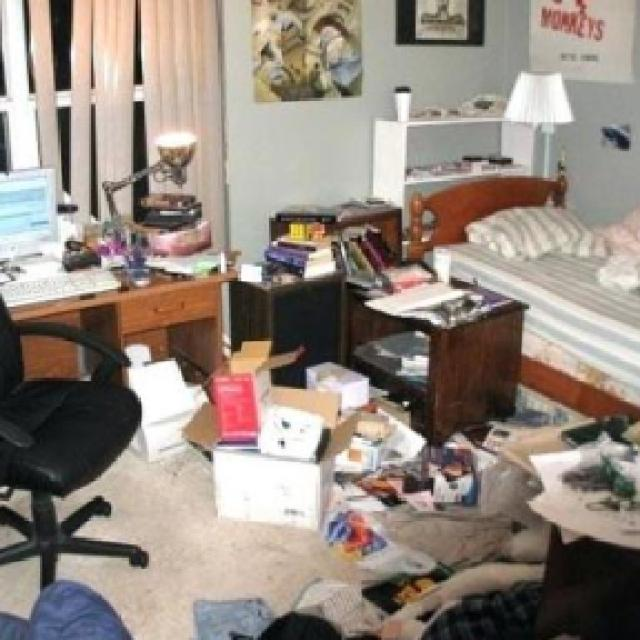scattered-items: (128, 339, 499, 581), (482, 351, 640, 640), (258, 194, 495, 333), (63, 135, 241, 301)
